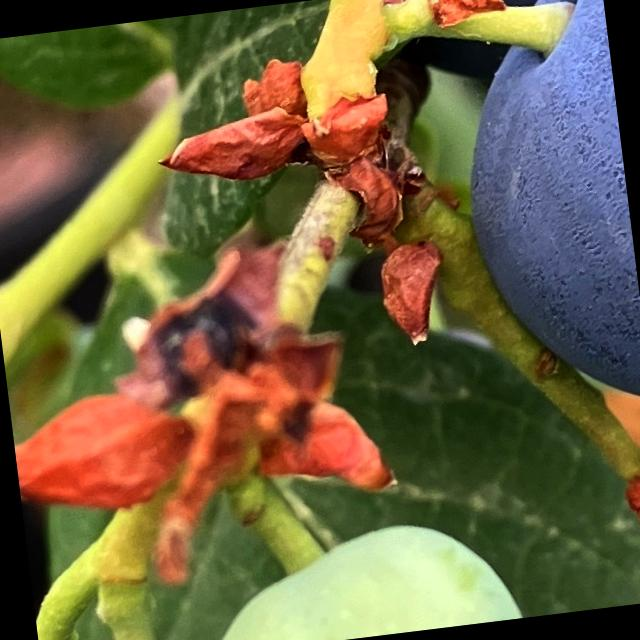Blueberries: (438, 0, 640, 427)
